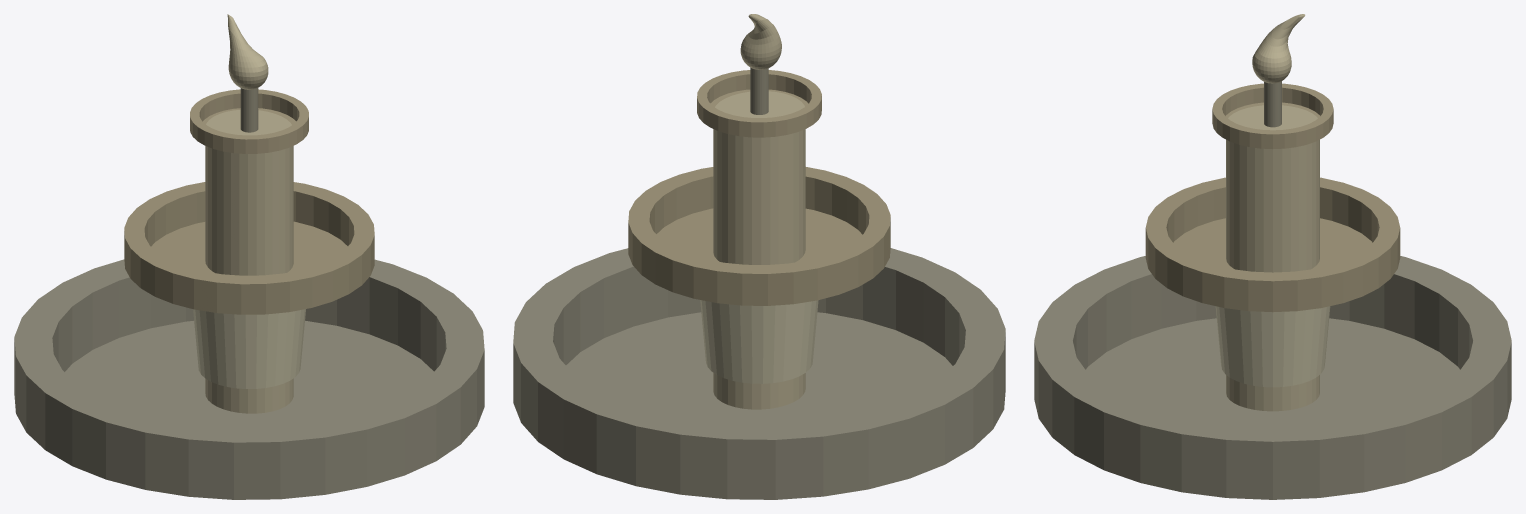
The model's file is фонтан.fbx.
3 views of the same model, side by side, from view 1: azimuth 30°, elevation 25°; view 2: azimuth 150°, elevation 25°; view 3: azimuth 270°, elevation 25° (orthographic). The views are drawn at different scales.
Parts seen in each view (by area): view 1: Окружность, Окружность.001, Цилиндр, Цилиндр.001, Окружность.002, Сфера, Цилиндр.002; view 2: Окружность, Окружность.001, Цилиндр, Цилиндр.001, Окружность.002, Сфера, Цилиндр.002; view 3: Окружность, Окружность.001, Цилиндр, Цилиндр.001, Окружность.002, Сфера, Цилиндр.002.
Part boxes in pixels (x1,y1,x2,y2): Окружность: (14, 259, 484, 499); Окружность.001: (124, 182, 374, 314); Цилиндр: (205, 109, 293, 413); Цилиндр.001: (193, 309, 305, 388); Окружность.002: (190, 89, 308, 153); Сфера: (227, 14, 268, 89); Цилиндр.002: (240, 88, 258, 132); Окружность: (513, 248, 1005, 499); Окружность.001: (628, 167, 890, 305); Цилиндр: (713, 91, 805, 409); Цилиндр.001: (700, 300, 818, 383); Окружность.002: (697, 70, 821, 137); Сфера: (740, 14, 781, 69); Цилиндр.002: (750, 67, 768, 114); Окружность: (1034, 256, 1511, 499); Окружность.001: (1145, 177, 1400, 312); Цилиндр: (1226, 105, 1319, 411); Цилиндр.001: (1215, 306, 1330, 387); Окружность.002: (1212, 83, 1333, 148); Сфера: (1252, 14, 1305, 83); Цилиндр.002: (1264, 81, 1281, 127).
Bounding box in the file's own units: 885 × 781 × 885.
